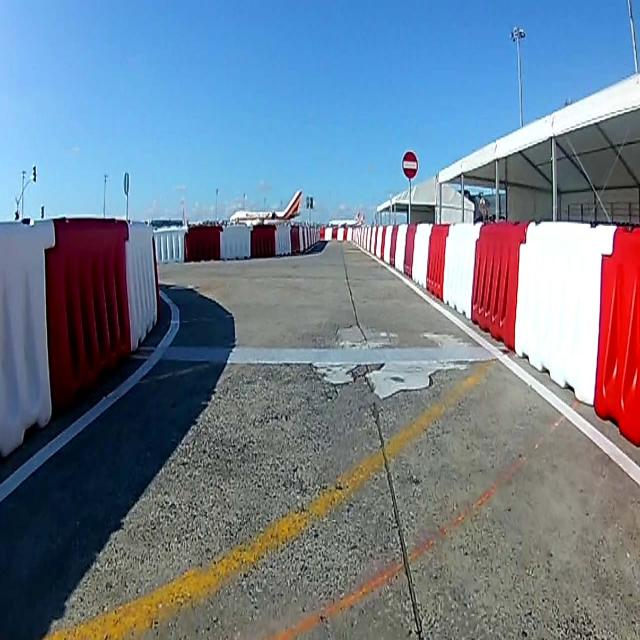girisyok: (401, 151, 419, 178)
